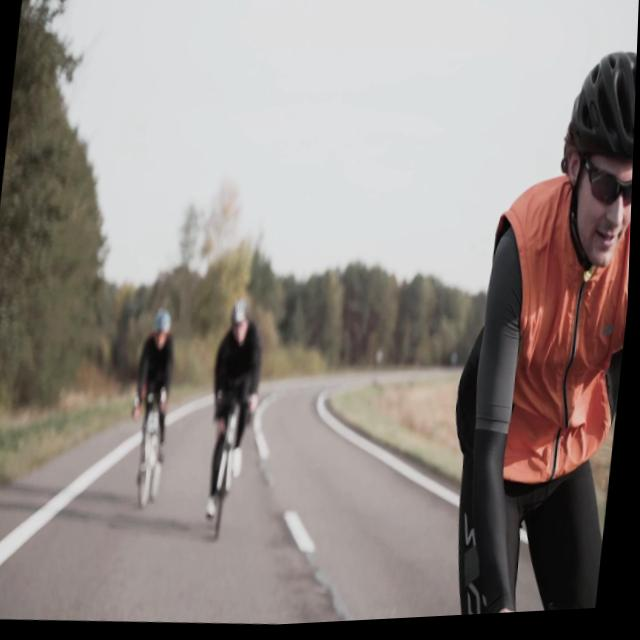helmet: (551, 52, 638, 277)
